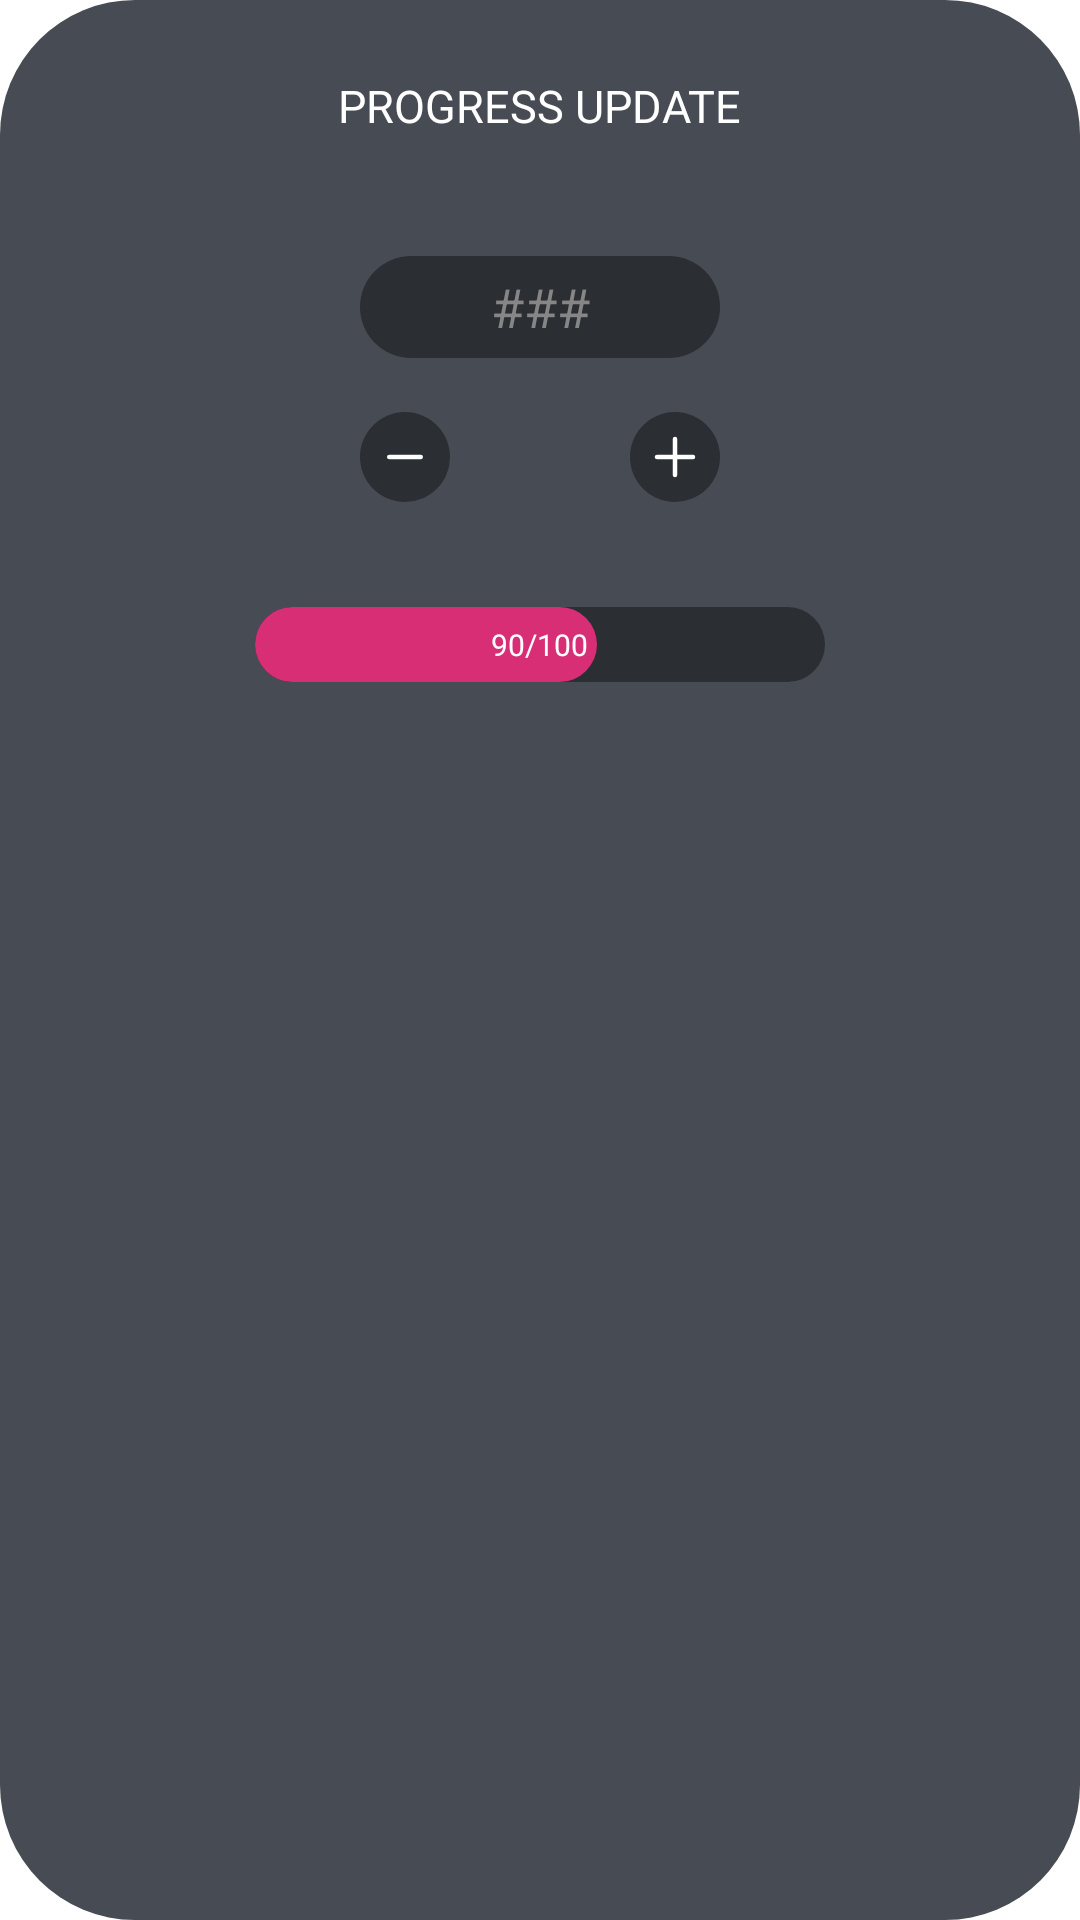

Screen size 1080x1920. Icon name, then its box in pixels as BBox(x1, y1, x2, y2):
add: BBox(630, 412, 720, 502)
